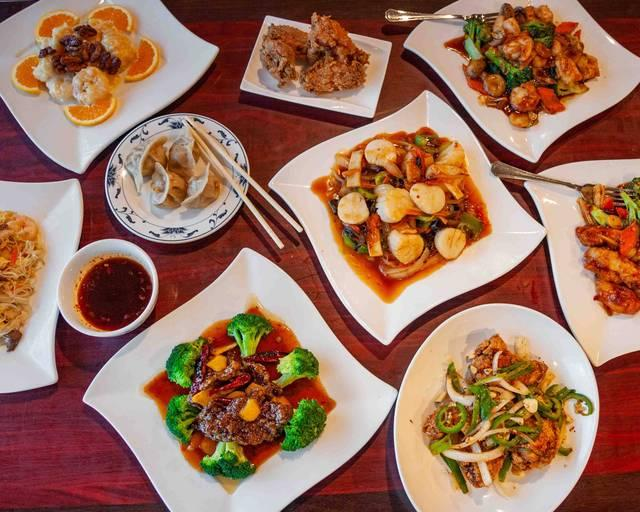Braised Crucian Carp: (82, 248, 391, 509), (267, 89, 545, 340), (392, 302, 600, 510), (395, 0, 640, 157), (1, 0, 223, 172), (238, 14, 385, 118)
